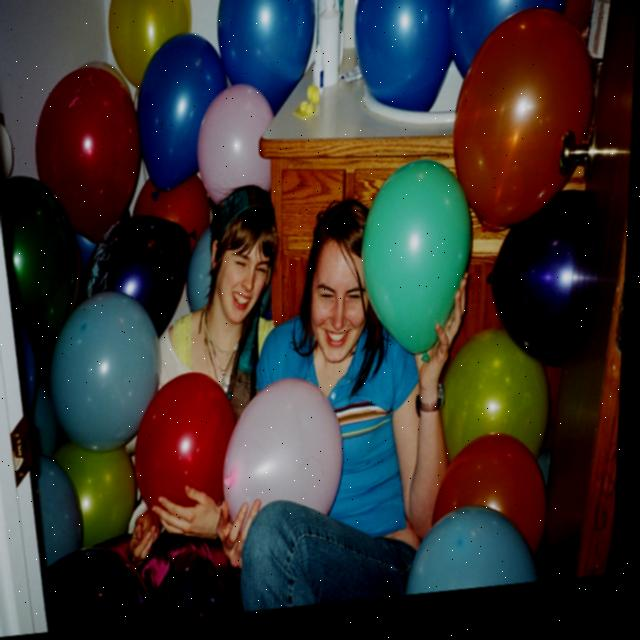balloon: (453, 18, 600, 244), (363, 179, 473, 366), (45, 536, 254, 631), (233, 382, 351, 541), (59, 290, 169, 458), (38, 67, 142, 237), (437, 440, 563, 577), (494, 197, 584, 385), (0, 169, 82, 372), (444, 335, 558, 476), (139, 385, 239, 528), (139, 38, 227, 198), (85, 222, 193, 346), (352, 0, 452, 123), (419, 514, 547, 604), (219, 0, 311, 121), (453, 0, 571, 90), (197, 86, 281, 209), (51, 439, 142, 544), (18, 455, 91, 568), (106, 0, 193, 86), (136, 173, 213, 261), (3, 296, 44, 421), (189, 233, 228, 324), (29, 375, 65, 458), (567, 0, 603, 38)
